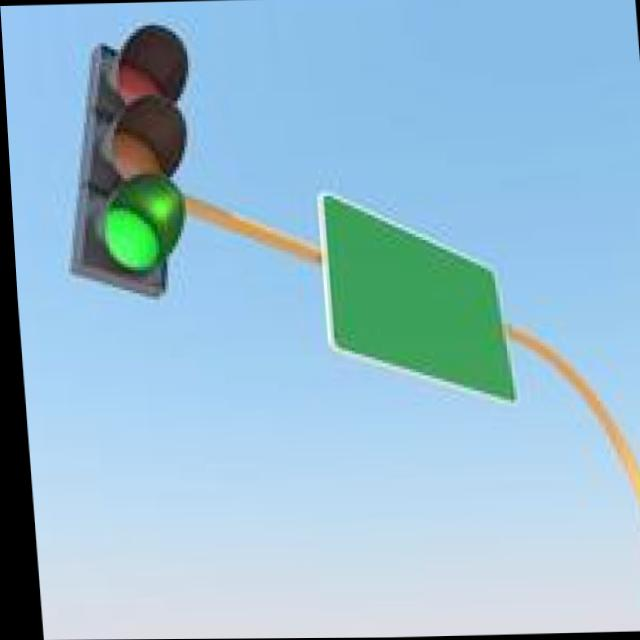green_light: (15, 176, 225, 330)
